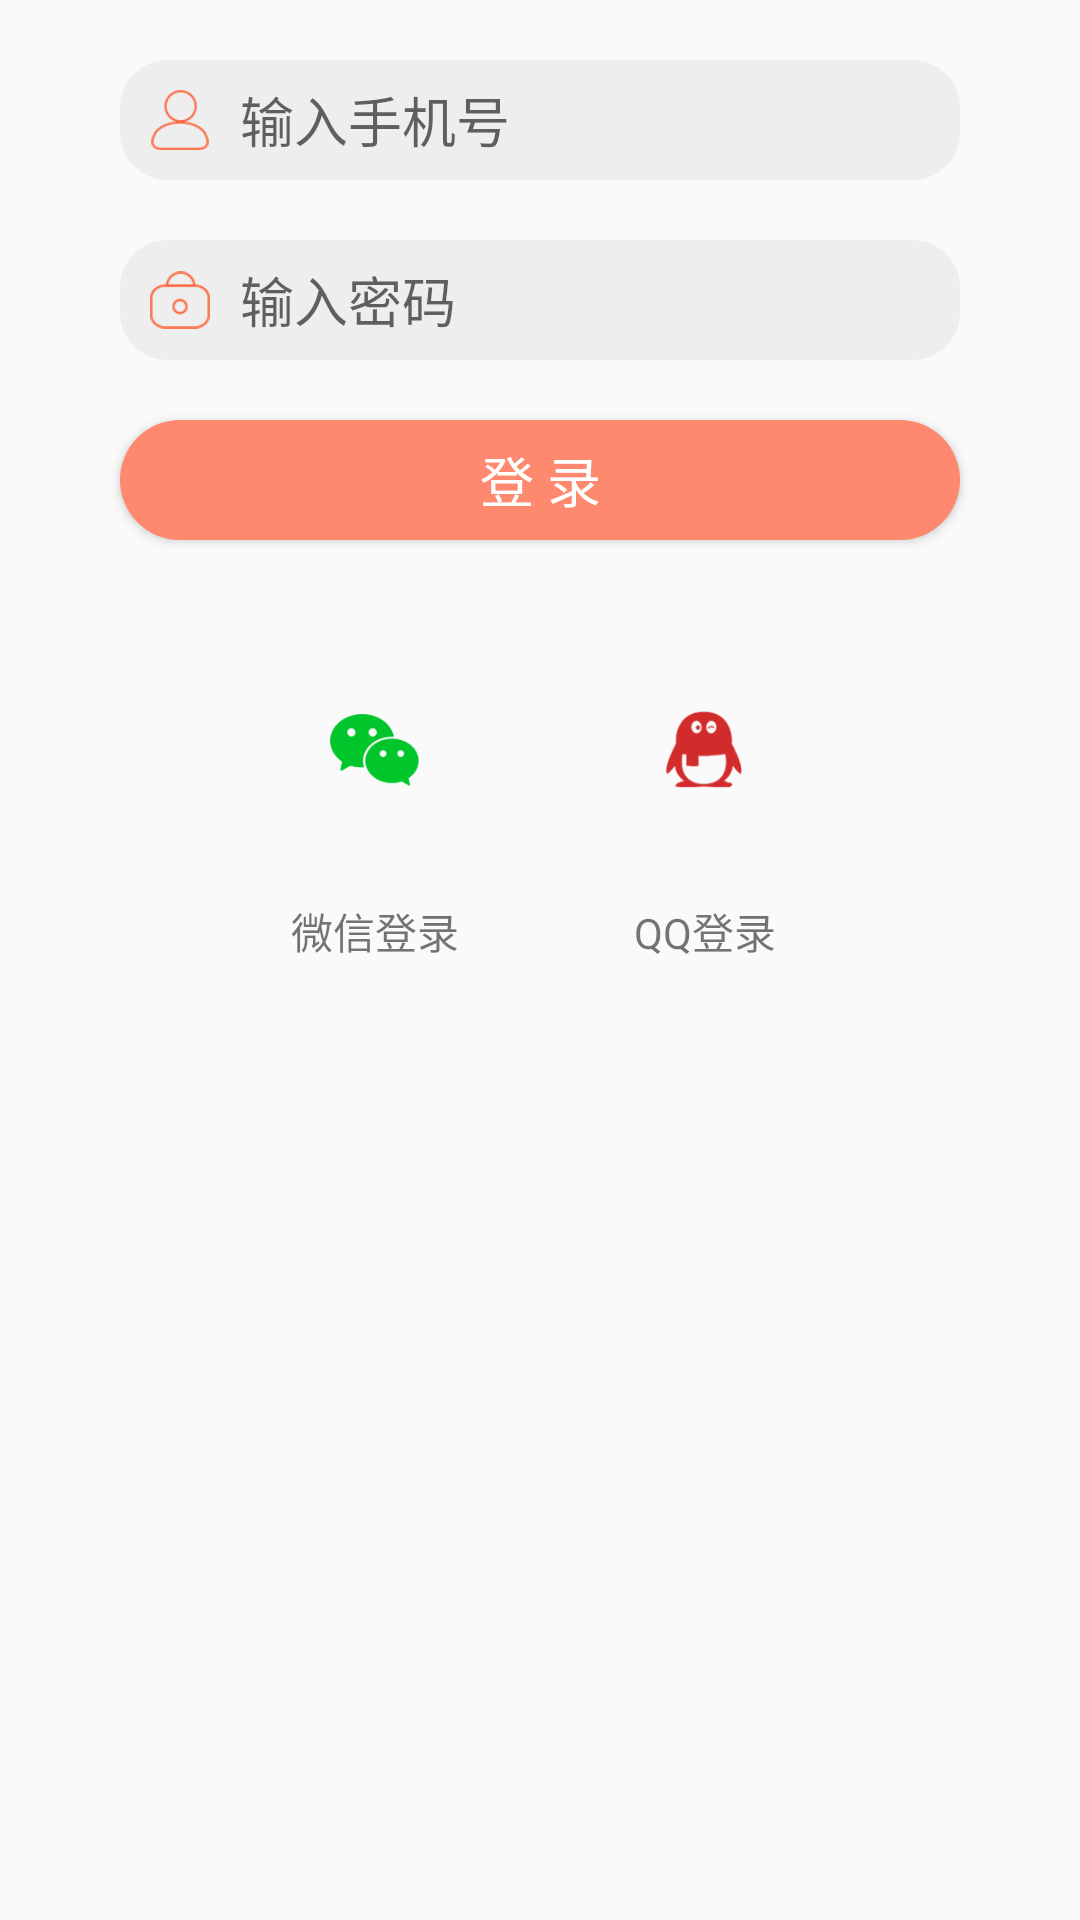

Icons on this 1080x1920 Android screen, each with its box as {"x1": x1, "y1": y1, "x2": x2, "y2": y2}:
password login: {"x1": 120, "y1": 240, "x2": 240, "y2": 360}
user login: {"x1": 120, "y1": 60, "x2": 240, "y2": 180}
